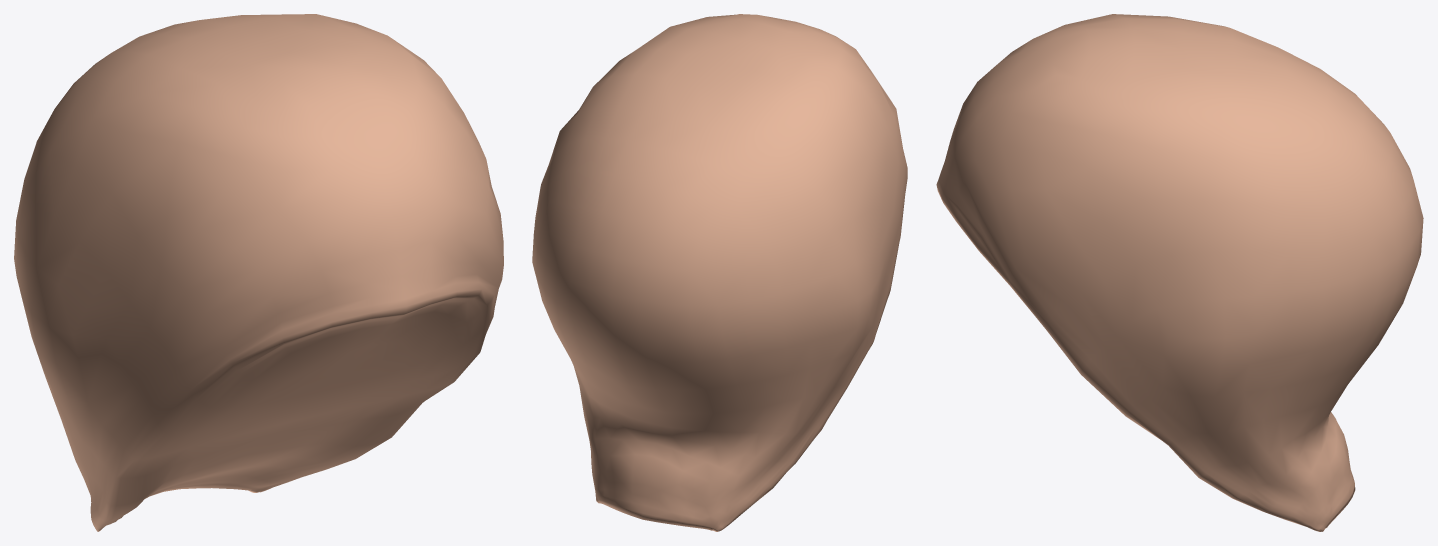
Rendered from Hair_1.fbx.
3 renders of one model, left to right at view 1: azimuth 30°, elevation 25°; view 2: azimuth 150°, elevation 25°; view 3: azimuth 270°, elevation 25°, orthographic. The views are drawn at different scales.
Visible parts, largest first — view 1: Retopo_Sphere.005; view 2: Retopo_Sphere.005; view 3: Retopo_Sphere.005.
Part boxes in pixels (x1,y1,x2,y2): Retopo_Sphere.005: (14, 14, 503, 531); Retopo_Sphere.005: (532, 14, 907, 531); Retopo_Sphere.005: (936, 14, 1423, 531).
Bounding box in the file's own units: 16.11 × 20.47 × 19.72.
